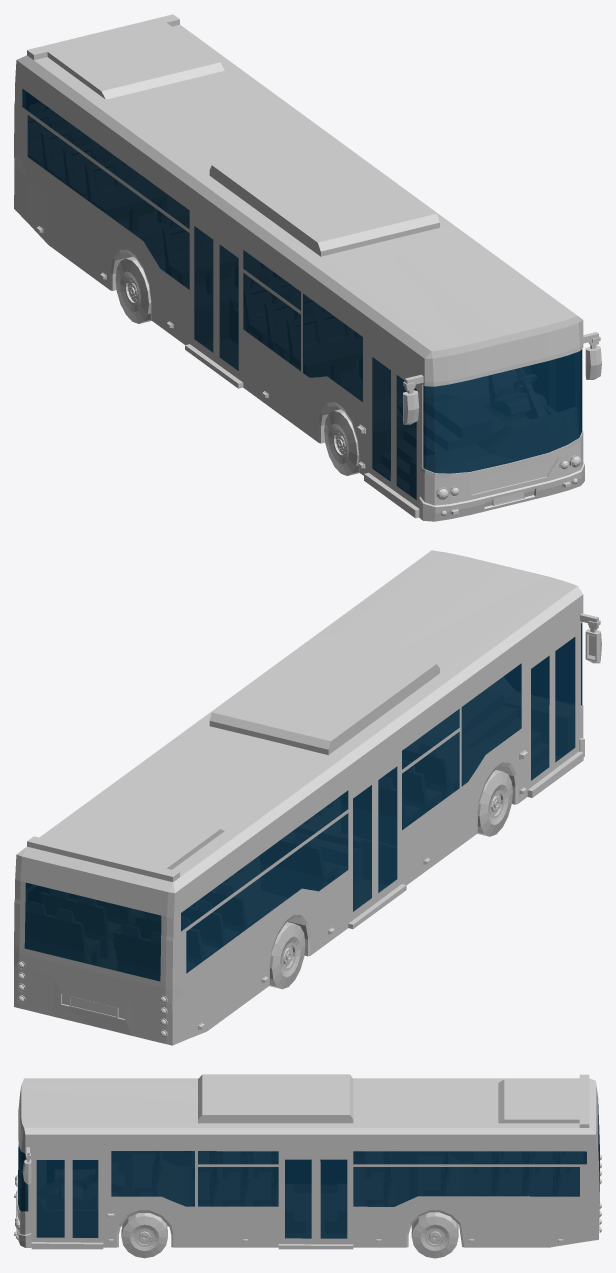
Rendered from bus_fixed_wheels.fbx.
3 views of the same model, one above another, from view 1: azimuth 30°, elevation 25°; view 2: azimuth 150°, elevation 25°; view 3: azimuth 270°, elevation 25° (orthographic). The views are drawn at different scales.
Parts seen in each view (by area): view 1: bus_fixed_wheels, bus_glass.003; view 2: bus_fixed_wheels, bus_glass.003; view 3: bus_fixed_wheels, bus_glass.003.
Part boxes in pixels (box(x1,y1,x2,y2)): bus_fixed_wheels: box(14, 14, 601, 521); bus_glass.003: box(22, 88, 582, 499); bus_fixed_wheels: box(14, 550, 601, 1045); bus_glass.003: box(24, 623, 582, 981); bus_fixed_wheels: box(14, 1074, 601, 1258); bus_glass.003: box(18, 1105, 599, 1238).
Bounding box in the file's own units: 487 × 465 × 1806.
